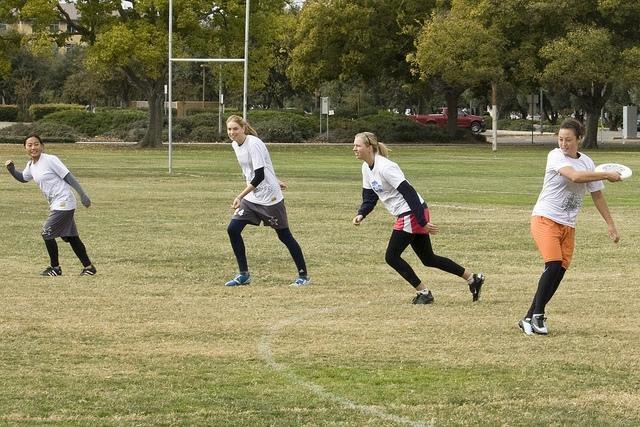car: (283, 107, 314, 114)
truck: (408, 106, 487, 135)
